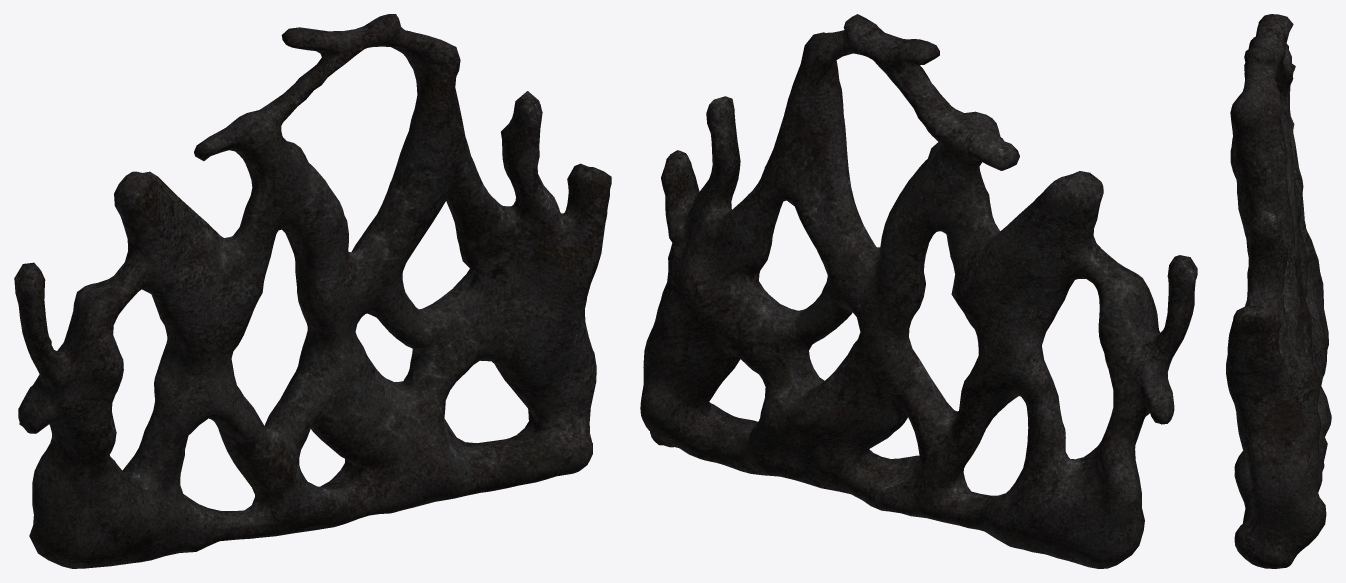
The model's file is BonyWall1.fbx.
3 renders of one model, left to right at view 1: azimuth 30°, elevation 25°; view 2: azimuth 150°, elevation 25°; view 3: azimuth 270°, elevation 25°, orthographic. The views are drawn at different scales.
Parts seen in each view (by area): view 1: BonyWall1; view 2: BonyWall1; view 3: BonyWall1.
Part boxes in pixels (x1,y1,x2,y2): BonyWall1: [14, 14, 611, 568]; BonyWall1: [640, 14, 1197, 568]; BonyWall1: [1226, 14, 1331, 568].
Size of the model in its own units: 9760 by 8193 by 1759.
